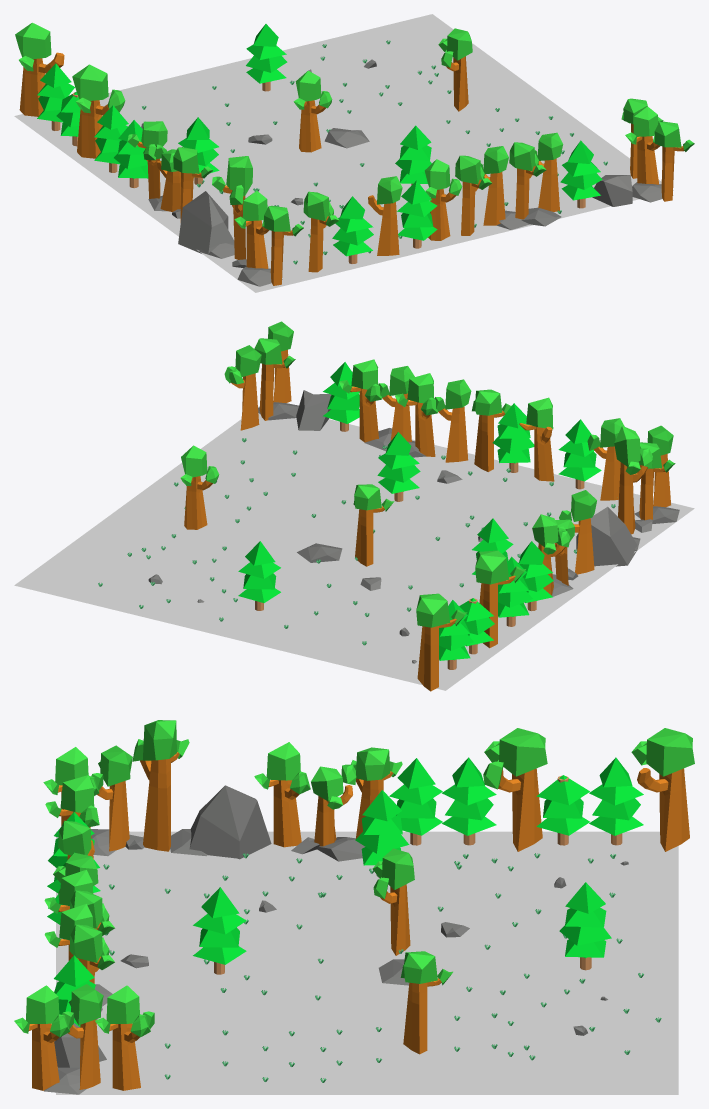
Rendered from Florestayes.fbx.
3 views of the same model, one above another, from view 1: azimuth 30°, elevation 25°; view 2: azimuth 150°, elevation 25°; view 3: azimuth 270°, elevation 25° (orthographic). The views are drawn at different scales.
Visible parts, largest first — view 1: Plane, Sphere.056, Cylinder.130, Cylinder.091, Cylinder.119, Sphere.136, Sphere.137, Sphere.060, Cylinder.077, Cylinder.082, Cylinder.106, Cylinder.120 (+35 smaller); view 2: Plane, Sphere.056, Cylinder.130, Sphere.136, Cylinder.121, Cylinder.119, Cylinder.081, Cylinder.074, Cylinder.117, Cylinder.077, Sphere.060, Sphere.137 (+25 smaller); view 3: Plane, Sphere.056, Cylinder.130, Cylinder.081, Cylinder.091, Sphere.137, Sphere.060, Cylinder.079, Cylinder.084, Cylinder.107, Cylinder.074, Cylinder.106 (+51 smaller).
Boxes of the visible parts, x1,y1,x2,y2 form: Plane: [14, 14, 673, 292]; Sphere.056: [178, 191, 234, 253]; Cylinder.130: [19, 52, 64, 116]; Cylinder.091: [77, 100, 109, 158]; Cylinder.119: [368, 195, 399, 255]; Sphere.136: [592, 175, 632, 206]; Sphere.137: [15, 22, 51, 58]; Sphere.060: [72, 64, 108, 100]; Cylinder.077: [299, 100, 325, 152]; Cylinder.082: [245, 220, 269, 268]; Cylinder.106: [636, 136, 659, 184]; Cylinder.120: [483, 172, 505, 225]; Plane: [14, 406, 694, 690]; Sphere.056: [576, 506, 637, 566]; Cylinder.130: [417, 618, 456, 691]; Sphere.136: [296, 390, 331, 430]; Cylinder.121: [438, 406, 468, 462]; Cylinder.119: [519, 423, 554, 481]; Cylinder.081: [618, 462, 647, 534]; Cylinder.074: [184, 476, 212, 529]; Cylinder.117: [474, 411, 505, 471]; Cylinder.077: [355, 506, 384, 566]; Sphere.060: [475, 550, 509, 584]; Sphere.137: [416, 593, 450, 627]; Plane: [56, 831, 678, 1094]; Sphere.056: [189, 785, 271, 859]; Cylinder.130: [637, 768, 689, 851]; Cylinder.081: [140, 752, 179, 851]; Cylinder.091: [498, 768, 542, 851]; Sphere.137: [646, 728, 694, 776]; Sphere.060: [499, 728, 547, 776]; Cylinder.079: [109, 1023, 140, 1090]; Cylinder.084: [268, 780, 301, 847]; Cylinder.107: [28, 1023, 59, 1090]; Cylinder.074: [403, 978, 441, 1054]; Cylinder.106: [68, 1019, 100, 1089].
Bounding box in the file's own units: 8251 × 1884 × 8707.
